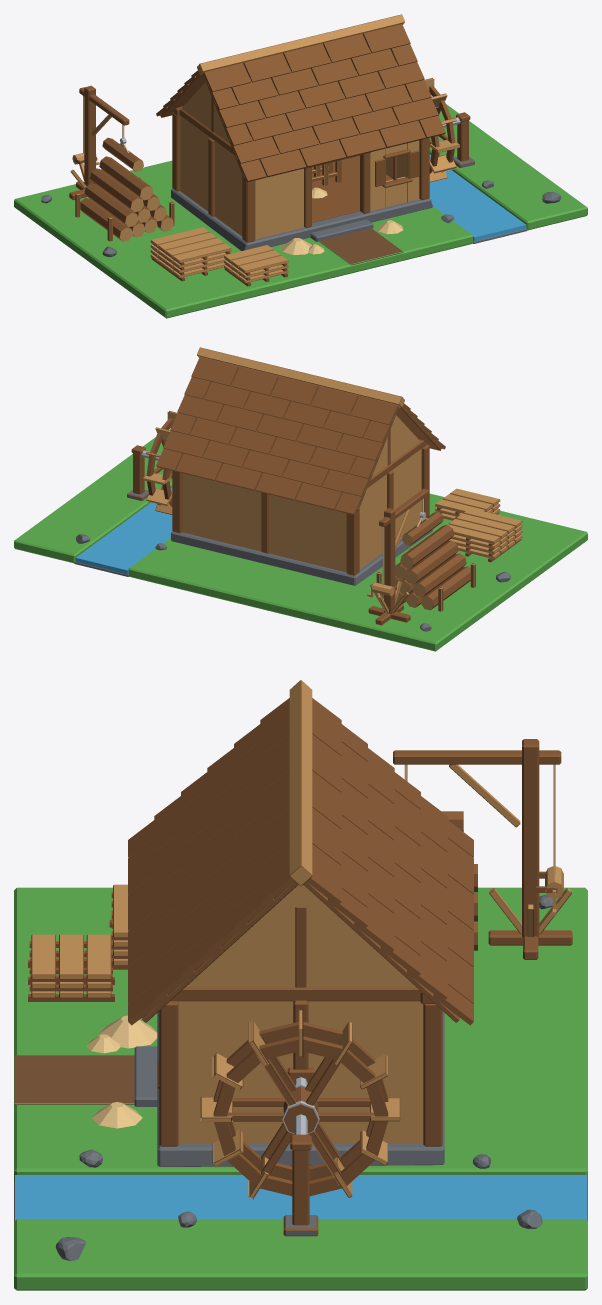
The model's file is medieval-water-sawmill.glb.
3 renders of one model, top to bottom at view 1: azimuth 30°, elevation 25°; view 2: azimuth 150°, elevation 25°; view 3: azimuth 270°, elevation 25°, orthographic. The views are drawn at different scales.
Parts seen in each view (by area): view 1: Roof, Ground, Walls, Frame, LogPile, PlankStacks, Foundation, Stream, Crane, WaterWheel, SawdustPiles, WheelBearing (+2 smaller); view 2: Roof, Ground, Walls, LogPile, PlankStacks, Stream, Crane, Frame, Foundation, WaterWheel, WheelBearing, Rocks; view 3: Ground, Roof, Walls, Stream, WaterWheel, Frame, Crane, PlankStacks, Foundation, WheelBearing, SawdustPiles, Rocks.
Part boxes in pixels (x1,y1,x2,y2): Roof: [156, 14, 445, 182]; Ground: [14, 104, 587, 318]; Walls: [180, 82, 419, 239]; Frame: [172, 96, 429, 242]; LogPile: [75, 156, 174, 241]; PlankStacks: [150, 227, 288, 286]; Foundation: [171, 188, 432, 250]; Stream: [429, 154, 527, 243]; Crane: [69, 85, 143, 200]; WaterWheel: [424, 78, 460, 182]; SawdustPiles: [281, 187, 403, 254]; WheelBearing: [453, 112, 474, 167]; Roof: [156, 347, 445, 515]; Ground: [14, 430, 587, 651]; Walls: [182, 415, 421, 572]; LogPile: [376, 524, 475, 611]; PlankStacks: [435, 488, 522, 562]; Stream: [74, 487, 172, 576]; Crane: [367, 488, 443, 625]; Frame: [172, 429, 429, 575]; Foundation: [171, 529, 432, 585]; WaterWheel: [141, 411, 177, 514]; WheelBearing: [127, 445, 148, 500]; Rocks: [76, 440, 510, 631]; Ground: [14, 887, 587, 1290]; Roof: [128, 680, 473, 1025]; Walls: [178, 885, 423, 1143]; Stream: [14, 1175, 587, 1221]; WaterWheel: [200, 1009, 400, 1199]; Frame: [157, 906, 442, 1146]; Crane: [393, 739, 572, 959]; PlankStacks: [28, 884, 128, 1001]; Foundation: [134, 1011, 444, 1166]; WheelBearing: [283, 1067, 318, 1236]; SawdustPiles: [86, 1015, 157, 1128]; Rocks: [55, 894, 552, 1261].
Size of the model in its own units: 48 by 18.75 by 30.
